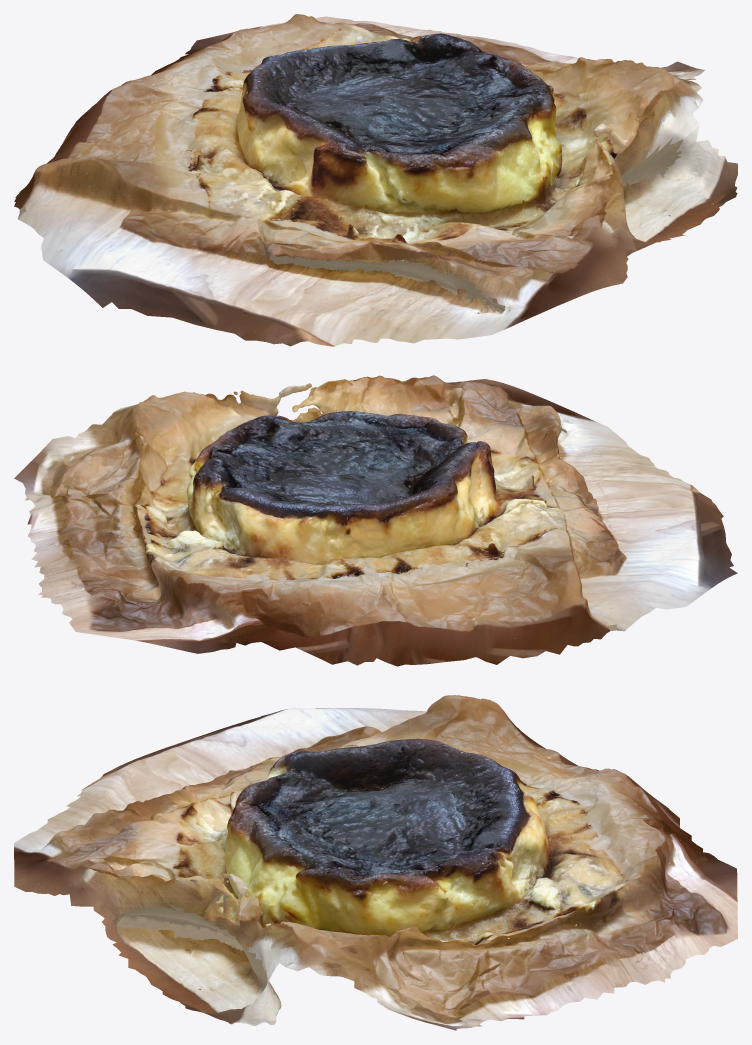
Rendered from tarta-queso-solo.glb.
The picture shows the model from 3 angles, top to bottom: view 1: azimuth 30°, elevation 25°; view 2: azimuth 150°, elevation 25°; view 3: azimuth 270°, elevation 25°; orthographic projection. The views are drawn at different scales.
Parts seen in each view (by area): view 1: Object_2, Object_3, Object_4; view 2: Object_2, Object_3, Object_4; view 3: Object_2, Object_3, Object_4.
Part boxes in pixels (x1,y1,x2,y2): Object_2: (19, 14, 719, 333); Object_3: (14, 16, 737, 346); Object_4: (17, 25, 703, 346); Object_2: (25, 375, 737, 666); Object_3: (14, 377, 723, 664); Object_4: (27, 377, 698, 650); Object_2: (14, 701, 697, 1027); Object_3: (14, 695, 737, 1030); Object_4: (52, 731, 697, 1019).
Size of the model in its own units: 0.24 by 0.0398 by 0.2257.
Materials: 3 (3 with a texture image).
